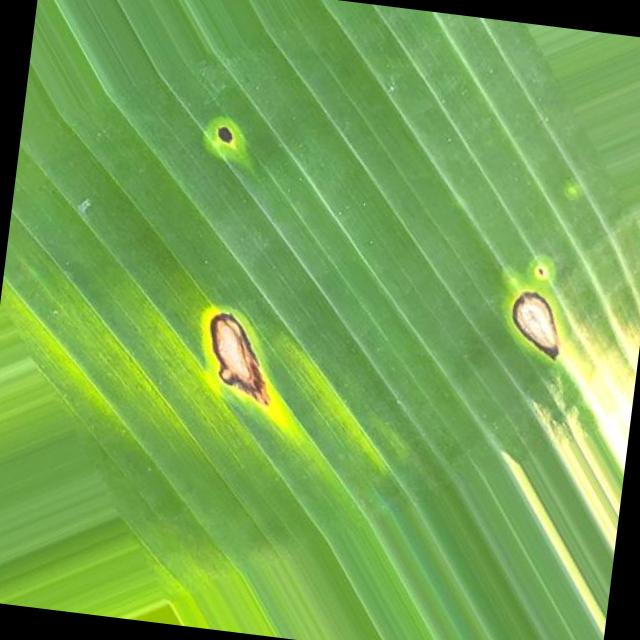Banana_Black_Sigatoka: (120, 266, 378, 472), (393, 238, 637, 402), (152, 74, 299, 212)
